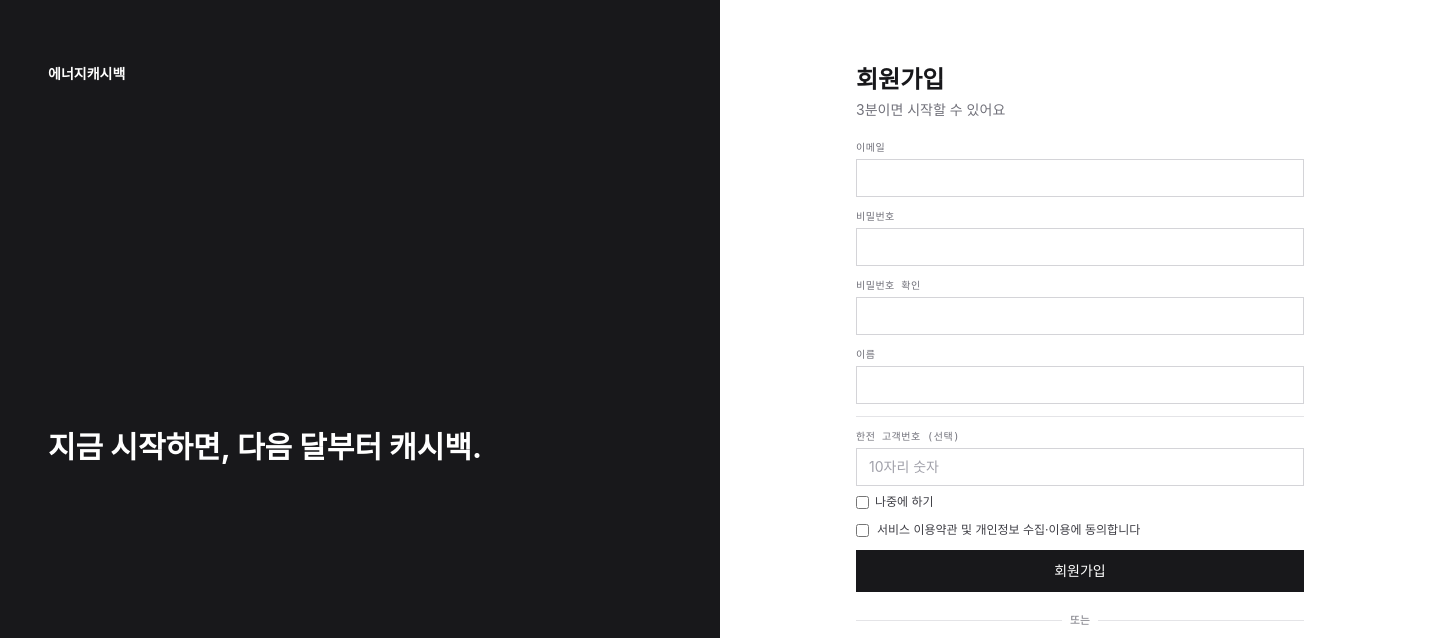
Scenario: SignupForm › agreeTerms unchecked blocks submit
This screenshot has width=1440, height=638.
In the field labelled "이메일": (1080, 178) [856,159,1304,197], type "new@example.com"
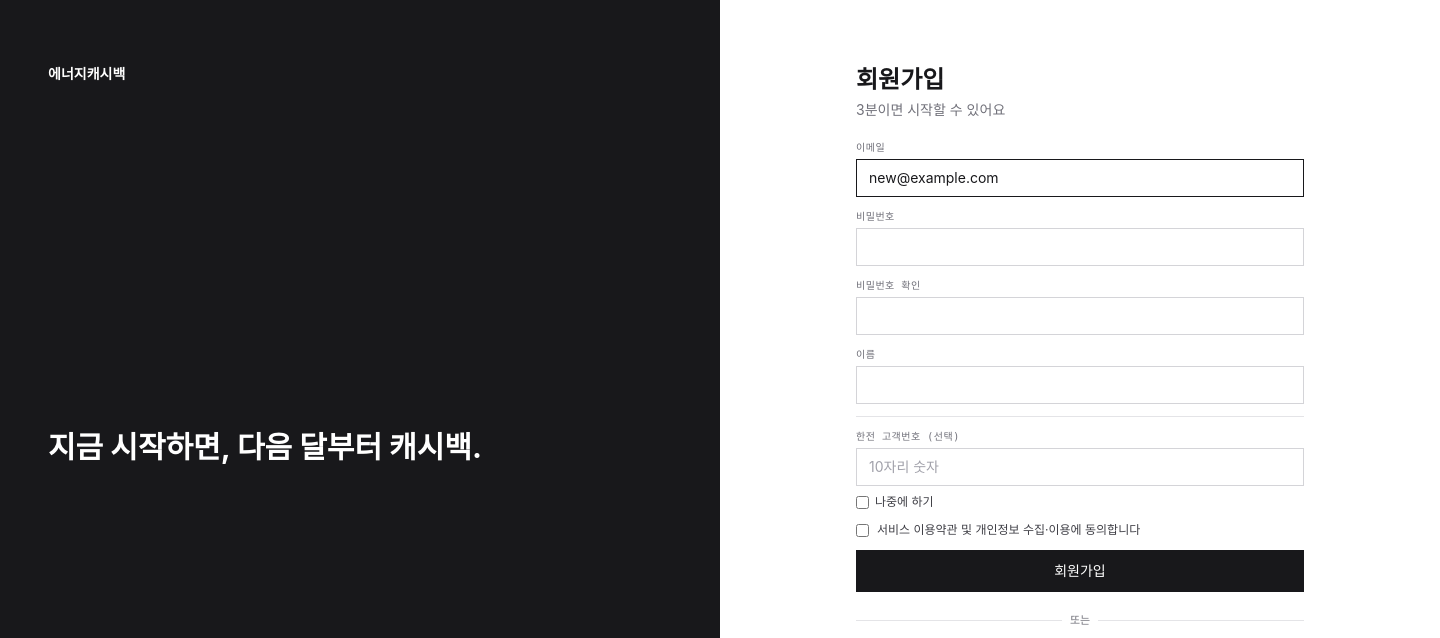
In the password field labelled "비밀번호": (1080, 247) [856,228,1304,266], type "nilm-mock-2026!"
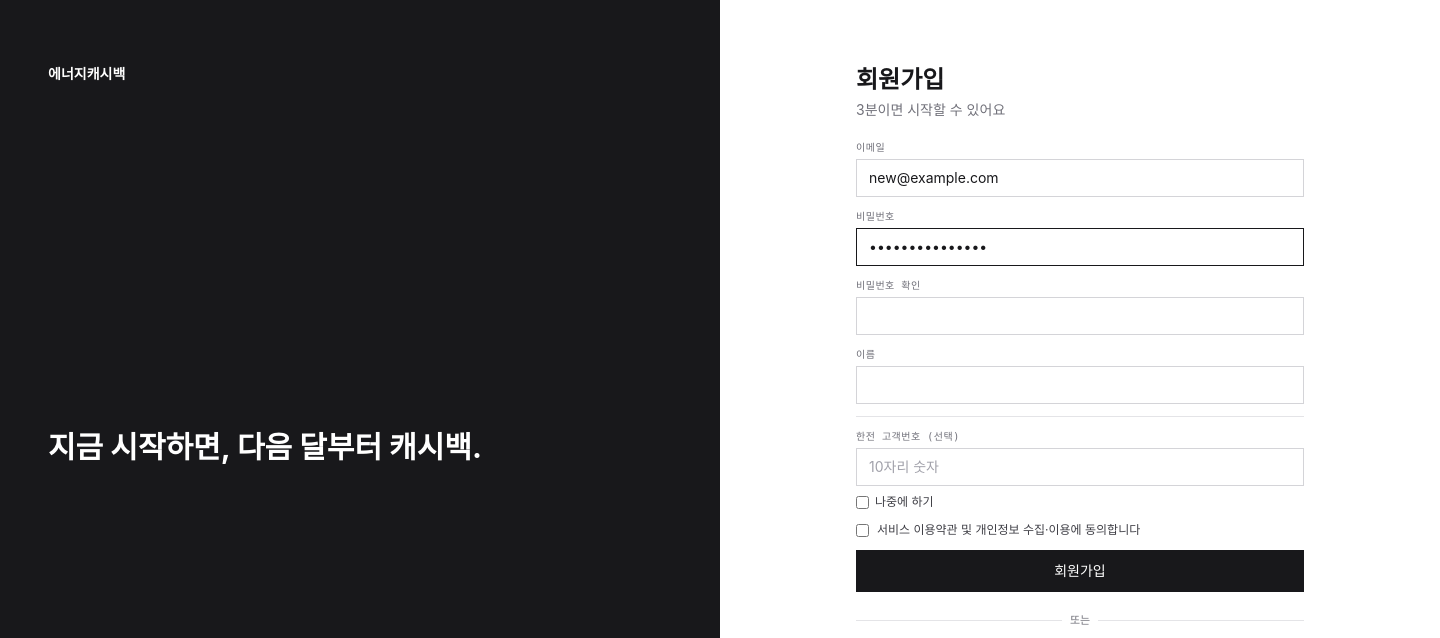
In the password field labelled "비밀번호 확인": (1080, 316) [856,297,1304,335], type "nilm-mock-2026!"
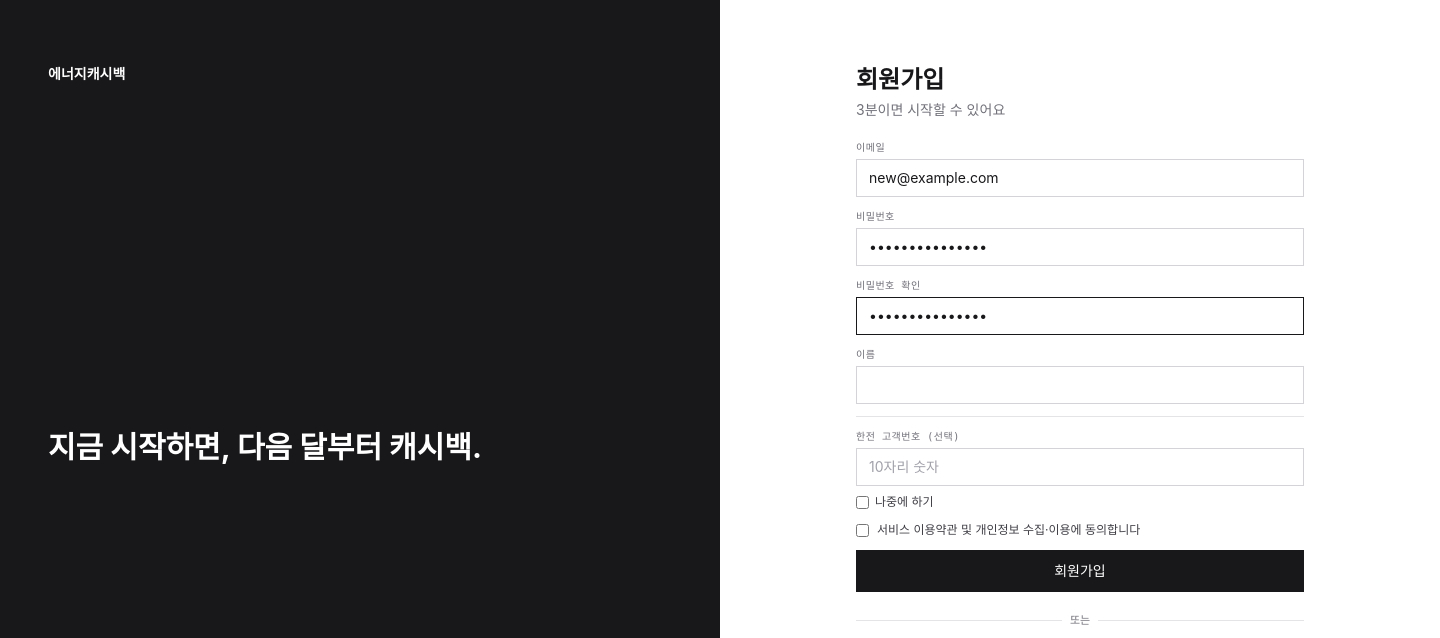
In the field labelled "이름": (1080, 385) [856,366,1304,404], type "새 사용자"
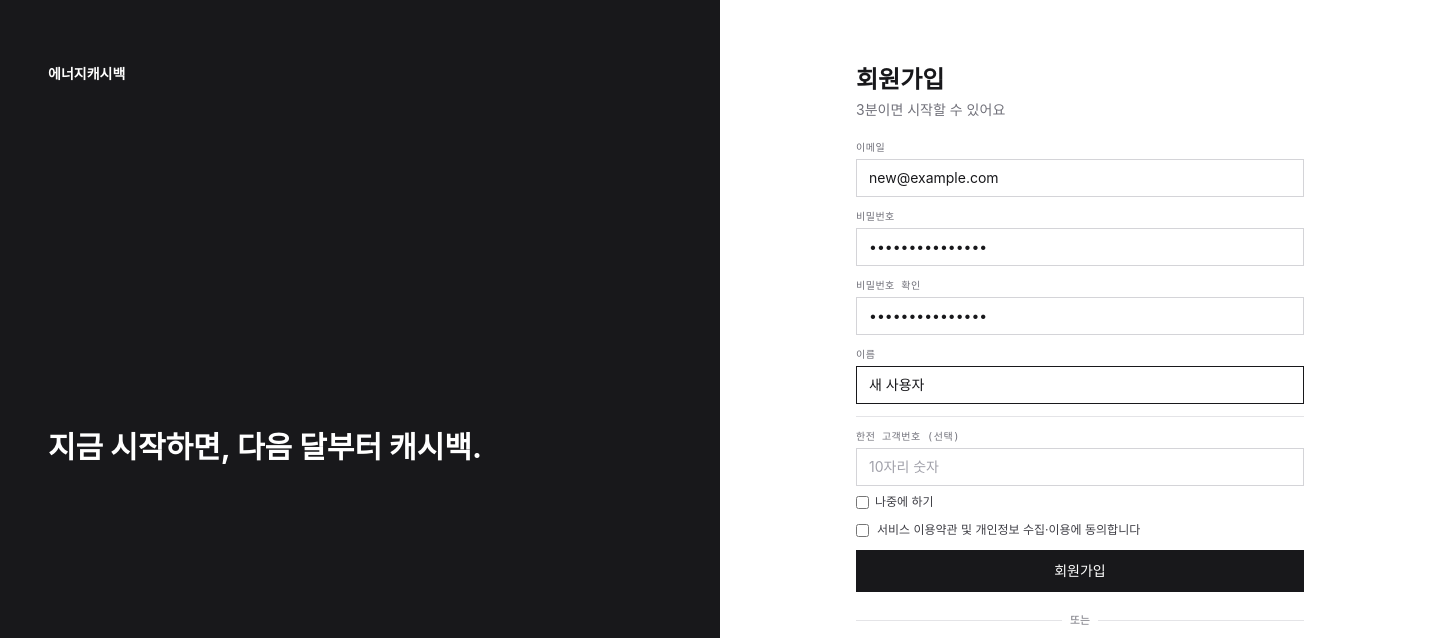
Click the checkbox labelled "나중에 하기": (862, 502) [856,496,869,508]
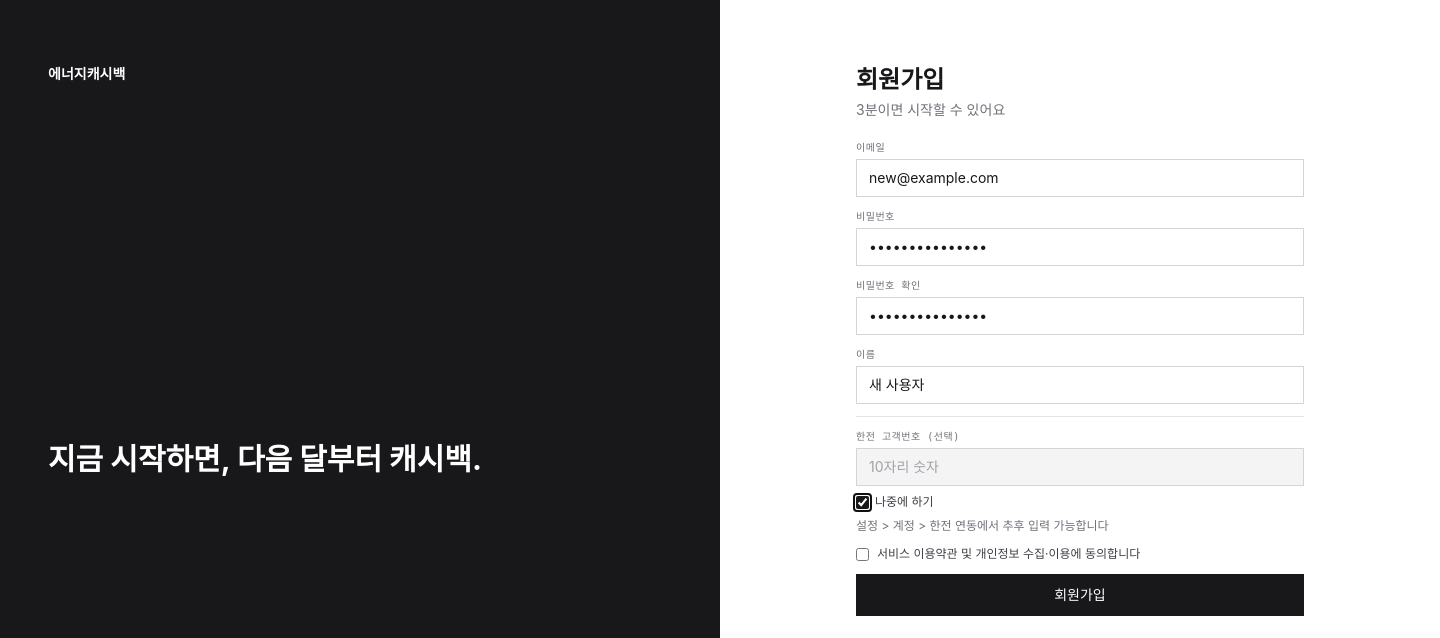
Click the button "회원가입": (1080, 595) [856,574,1304,616]
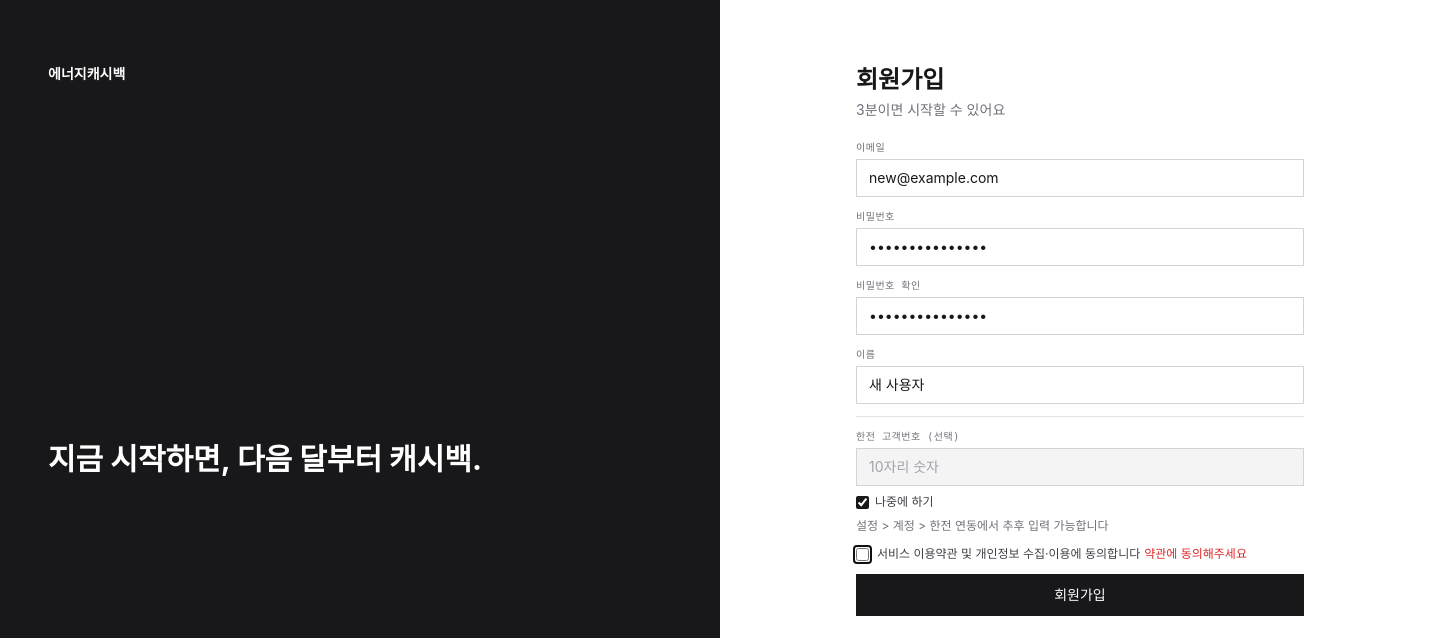
Check: the text "약관에 동의해주세요" is shown, box [1144,546,1247,561]
